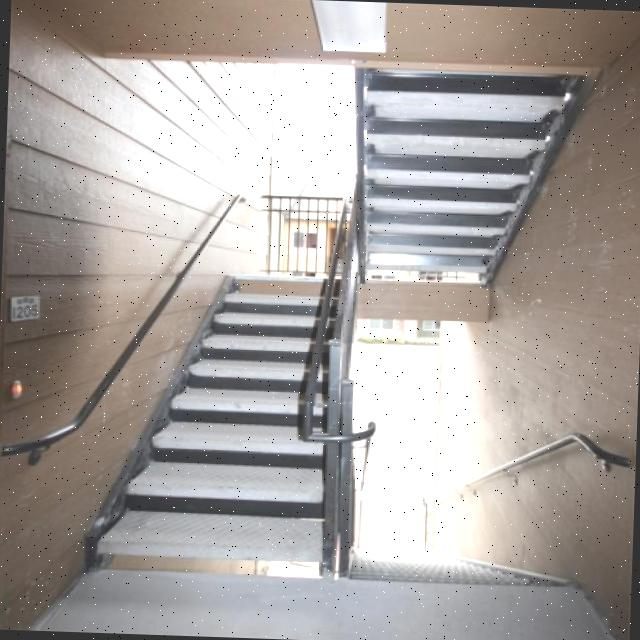stairs: (95, 266, 349, 576)
